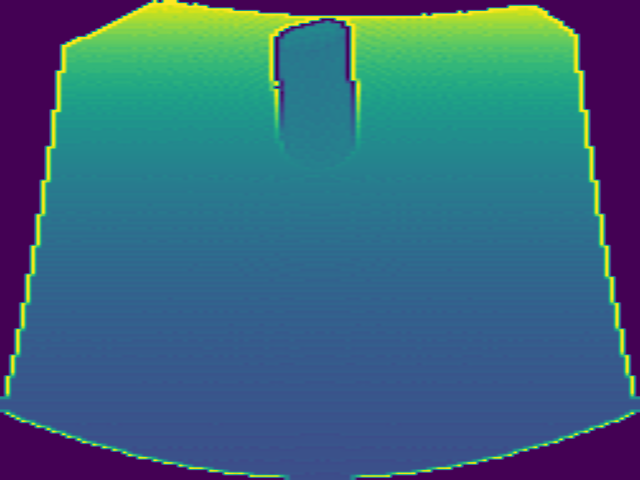cylinder: (269, 19, 361, 171)
